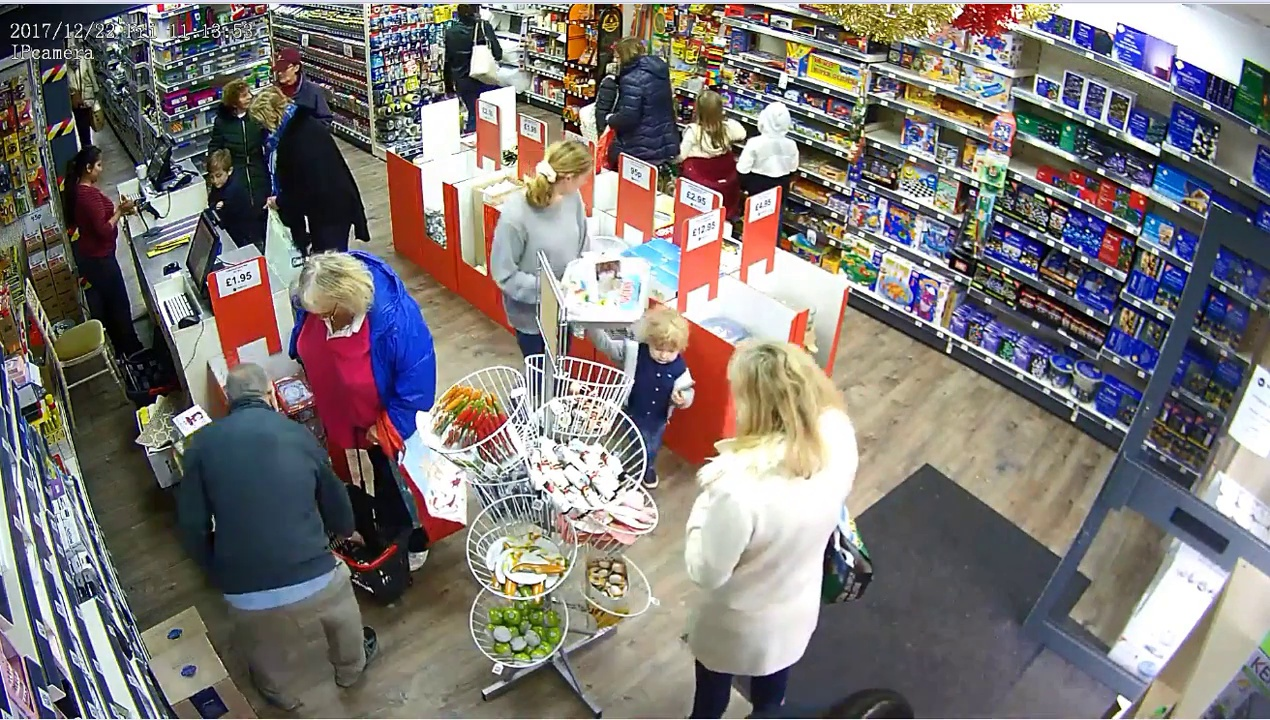face: (230, 88, 255, 113), (206, 167, 227, 190), (85, 153, 89, 167)
